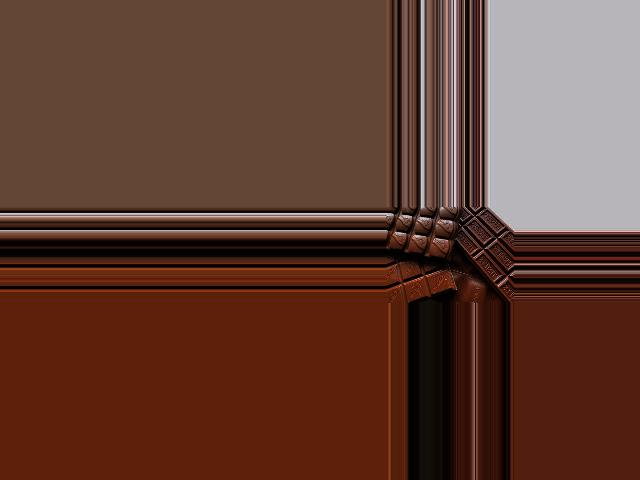chocolate: (385, 241, 455, 297)
